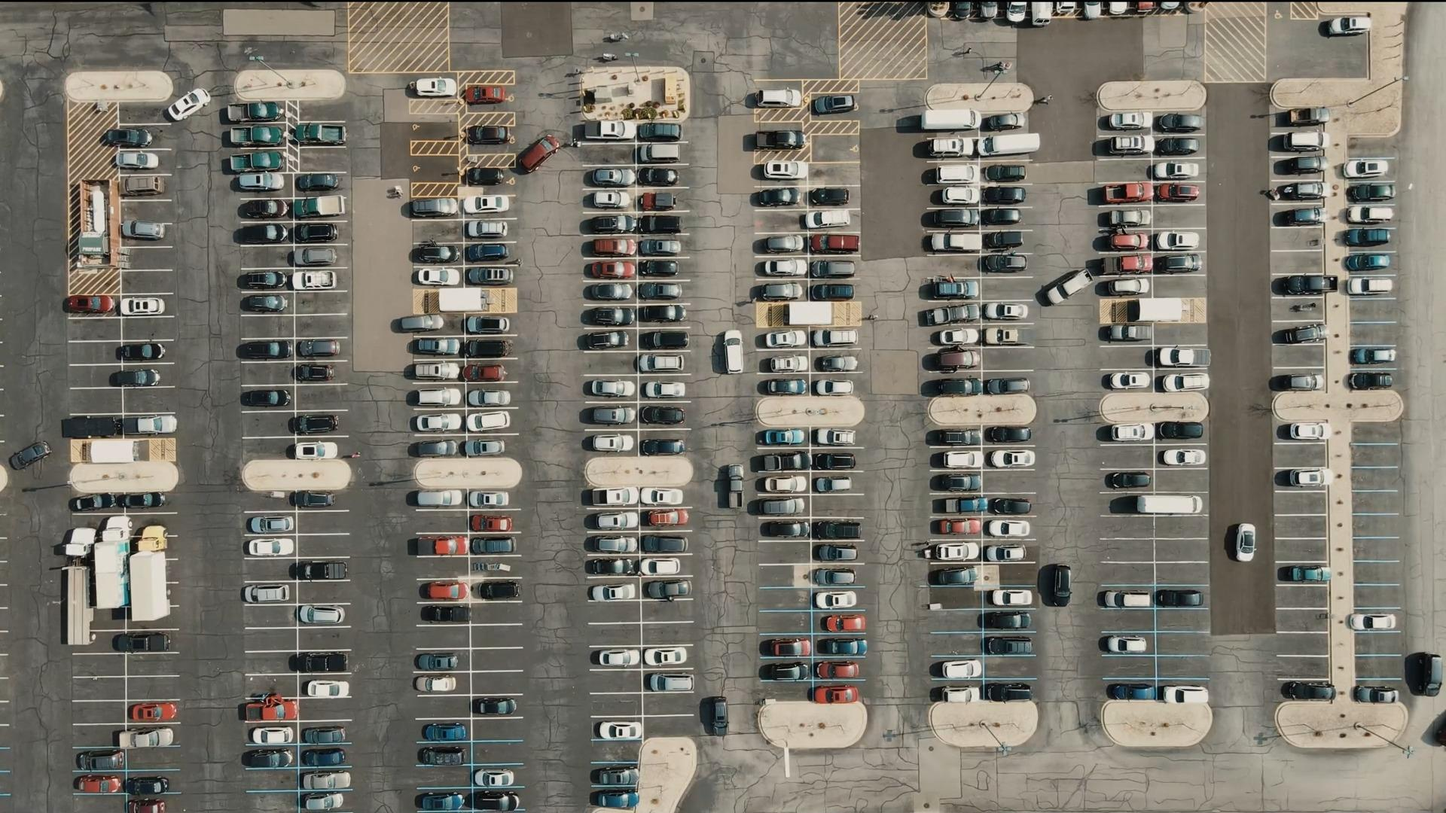free: (1346, 572, 1400, 608), (297, 584, 351, 616), (1345, 438, 1400, 467), (1272, 512, 1327, 541), (1349, 465, 1404, 494), (1350, 507, 1405, 536), (1352, 553, 1407, 582), (1272, 624, 1327, 653), (1285, 651, 1340, 680), (1100, 656, 1155, 685), (1094, 563, 1149, 592), (930, 607, 985, 636), (1268, 543, 1322, 572), (1347, 482, 1401, 511), (1356, 655, 1410, 684), (1157, 466, 1211, 495), (1156, 606, 1210, 635), (1156, 661, 1210, 690), (1153, 559, 1207, 588), (1088, 506, 1142, 535), (986, 465, 1040, 494), (990, 565, 1044, 594), (994, 657, 1048, 686), (578, 594, 632, 623), (582, 620, 636, 649), (585, 673, 639, 702), (627, 665, 681, 694), (642, 680, 696, 709), (1263, 485, 1318, 513), (1275, 451, 1330, 479), (1273, 606, 1328, 634), (1153, 633, 1208, 661), (1347, 417, 1401, 445), (1279, 582, 1333, 610), (1348, 635, 1402, 663), (1154, 513, 1208, 541), (1150, 538, 1204, 566), (1102, 605, 1156, 633), (1092, 538, 1146, 566), (936, 635, 990, 663), (471, 719, 526, 744), (422, 698, 477, 723), (415, 624, 470, 649), (301, 627, 356, 652), (244, 649, 299, 674), (242, 623, 297, 648), (469, 650, 523, 675), (245, 672, 299, 697), (302, 702, 356, 727), (476, 740, 531, 764), (406, 733, 461, 757), (470, 671, 524, 695), (473, 624, 527, 648), (250, 767, 304, 791), (1349, 532, 1404, 555)
occupied: (583, 389, 633, 433), (515, 134, 563, 174), (1047, 267, 1095, 305), (1405, 652, 1443, 697), (165, 87, 211, 122), (245, 695, 297, 721), (9, 440, 52, 470), (63, 416, 118, 438), (292, 123, 345, 145), (113, 633, 171, 653), (292, 652, 347, 673), (228, 125, 283, 146), (459, 318, 514, 339), (414, 336, 469, 357), (472, 386, 527, 407), (412, 423, 467, 444), (643, 560, 698, 581), (812, 689, 867, 710), (978, 632, 1033, 653), (810, 455, 865, 476), (811, 517, 866, 538), (241, 389, 295, 410), (813, 657, 867, 678), (929, 521, 983, 542), (229, 102, 284, 122), (225, 154, 280, 174), (293, 223, 348, 243), (238, 339, 293, 359), (410, 266, 465, 286), (474, 268, 529, 288), (406, 364, 461, 384), (471, 410, 526, 430), (475, 431, 530, 451), (469, 248, 524, 268), (464, 221, 519, 241), (461, 191, 516, 211), (468, 485, 523, 505), (808, 634, 863, 654), (756, 656, 811, 676), (810, 472, 865, 492), (754, 467, 809, 487), (809, 535, 864, 555), (928, 539, 983, 559), (1228, 523, 1256, 562), (1282, 681, 1336, 701), (292, 223, 346, 243), (240, 230, 294, 250), (289, 247, 343, 267), (298, 337, 352, 357), (291, 360, 345, 380), (405, 242, 459, 262), (453, 358, 507, 378), (405, 388, 459, 408), (466, 514, 520, 534), (636, 509, 690, 529), (648, 581, 702, 601), (588, 579, 642, 599), (800, 590, 854, 610), (816, 607, 870, 627), (813, 564, 867, 584), (976, 539, 1030, 559), (757, 515, 811, 535), (928, 574, 982, 594), (1282, 275, 1335, 295), (122, 728, 175, 748), (721, 329, 744, 375), (297, 195, 345, 217), (584, 121, 634, 142), (591, 168, 641, 189), (591, 190, 641, 211), (584, 210, 634, 231), (634, 120, 684, 141), (802, 184, 852, 205), (793, 209, 843, 230), (809, 233, 859, 254), (756, 231, 806, 252), (759, 256, 809, 277), (760, 353, 810, 374), (934, 450, 984, 471), (943, 501, 993, 522), (1145, 491, 1195, 512), (633, 259, 683, 280), (638, 349, 688, 370), (648, 378, 698, 399), (755, 374, 805, 395), (644, 276, 694, 297), (585, 488, 635, 509), (643, 498, 693, 519), (413, 491, 463, 512), (641, 648, 691, 669), (755, 430, 805, 451), (702, 696, 728, 736), (294, 561, 346, 581), (61, 527, 98, 555), (584, 241, 633, 262), (634, 214, 683, 235), (586, 285, 635, 306), (595, 515, 644, 536), (1049, 564, 1073, 606), (243, 748, 293, 768), (762, 160, 812, 180), (758, 185, 808, 205), (637, 238, 687, 258), (809, 355, 859, 375), (934, 472, 984, 492), (935, 422, 985, 442), (992, 447, 1042, 467), (985, 375, 1035, 395), (583, 438, 633, 458), (583, 309, 633, 329), (584, 332, 634, 352), (645, 410, 695, 430), (641, 333, 691, 353), (588, 273, 638, 293), (588, 558, 638, 578), (473, 588, 523, 608), (477, 535, 527, 555), (588, 651, 638, 671), (794, 649, 844, 669), (475, 790, 520, 812), (1324, 15, 1371, 36), (77, 750, 124, 771), (242, 199, 289, 220), (417, 792, 466, 812), (418, 746, 467, 766), (985, 683, 1034, 703), (638, 167, 687, 187), (812, 330, 861, 350), (768, 335, 817, 355), (586, 373, 635, 393), (644, 306, 693, 326), (422, 538, 471, 558), (811, 428, 860, 448), (989, 501, 1038, 521), (64, 296, 115, 315), (765, 637, 811, 658), (302, 770, 350, 790), (129, 702, 177, 722), (1344, 159, 1392, 179), (291, 414, 339, 434), (112, 369, 162, 388), (72, 493, 122, 512), (644, 191, 694, 210), (594, 766, 641, 786), (1345, 227, 1394, 246), (985, 331, 1029, 352), (928, 273, 972, 294), (985, 253, 1029, 274), (976, 203, 1020, 224), (124, 775, 170, 795), (302, 748, 348, 768), (596, 721, 642, 741), (105, 128, 153, 147), (1345, 277, 1393, 296), (117, 343, 165, 362), (297, 605, 345, 624), (1345, 253, 1393, 272), (1160, 347, 1208, 366), (813, 94, 856, 115), (940, 297, 983, 318), (936, 350, 979, 371), (939, 372, 982, 393), (940, 324, 983, 345), (927, 233, 970, 254), (989, 253, 1032, 274), (926, 206, 969, 227), (931, 167, 974, 188), (986, 138, 1029, 159), (986, 296, 1029, 317), (984, 230, 1027, 251), (986, 186, 1029, 207), (981, 162, 1024, 183), (1168, 449, 1211, 470), (1158, 374, 1201, 395), (756, 87, 801, 107), (937, 659, 982, 679), (989, 584, 1034, 604), (462, 85, 509, 104), (593, 790, 640, 809), (1349, 612, 1396, 631), (1350, 346, 1397, 365), (1282, 325, 1329, 344), (291, 441, 338, 460), (1105, 112, 1152, 131), (243, 584, 290, 603), (758, 130, 805, 149), (131, 415, 178, 434), (1157, 113, 1204, 132), (1108, 683, 1157, 701), (410, 198, 459, 216), (1104, 281, 1148, 301), (1156, 235, 1200, 255), (1286, 422, 1332, 441), (1103, 635, 1149, 654), (74, 775, 122, 793), (1279, 208, 1327, 226), (295, 173, 343, 191), (1107, 135, 1150, 155), (293, 271, 336, 291), (1122, 150, 1165, 170), (1112, 228, 1155, 248), (1098, 181, 1141, 201), (423, 723, 468, 742), (473, 697, 518, 716), (1349, 372, 1394, 391), (1287, 107, 1332, 126), (305, 679, 350, 698), (249, 726, 294, 745), (1156, 183, 1201, 202), (1285, 469, 1332, 487), (648, 673, 695, 691), (1162, 686, 1209, 704), (1157, 590, 1204, 608), (237, 172, 284, 190), (241, 271, 288, 289), (414, 77, 456, 97), (123, 175, 165, 195), (121, 220, 165, 239), (937, 685, 981, 704), (424, 581, 468, 600), (1113, 255, 1157, 274), (1109, 202, 1153, 221), (1282, 565, 1331, 582), (467, 126, 513, 144), (242, 295, 288, 313), (247, 515, 293, 533), (247, 538, 293, 556), (121, 297, 164, 316), (1167, 256, 1210, 275), (1102, 591, 1150, 608), (302, 728, 347, 746), (116, 151, 161, 169), (1108, 424, 1153, 442), (1104, 372, 1151, 389), (301, 792, 343, 811), (639, 143, 681, 162), (1354, 686, 1398, 704), (1275, 374, 1323, 390), (1105, 325, 1150, 342), (399, 315, 444, 332), (474, 768, 514, 787), (416, 654, 460, 671), (292, 491, 335, 508), (466, 168, 509, 185), (1108, 472, 1152, 488), (821, 264, 871, 276), (128, 799, 167, 813), (1007, 1, 1028, 23), (1082, 0, 1103, 19), (1053, 0, 1076, 17), (953, 1, 973, 20), (979, 0, 998, 19), (1158, 1, 1180, 13)
